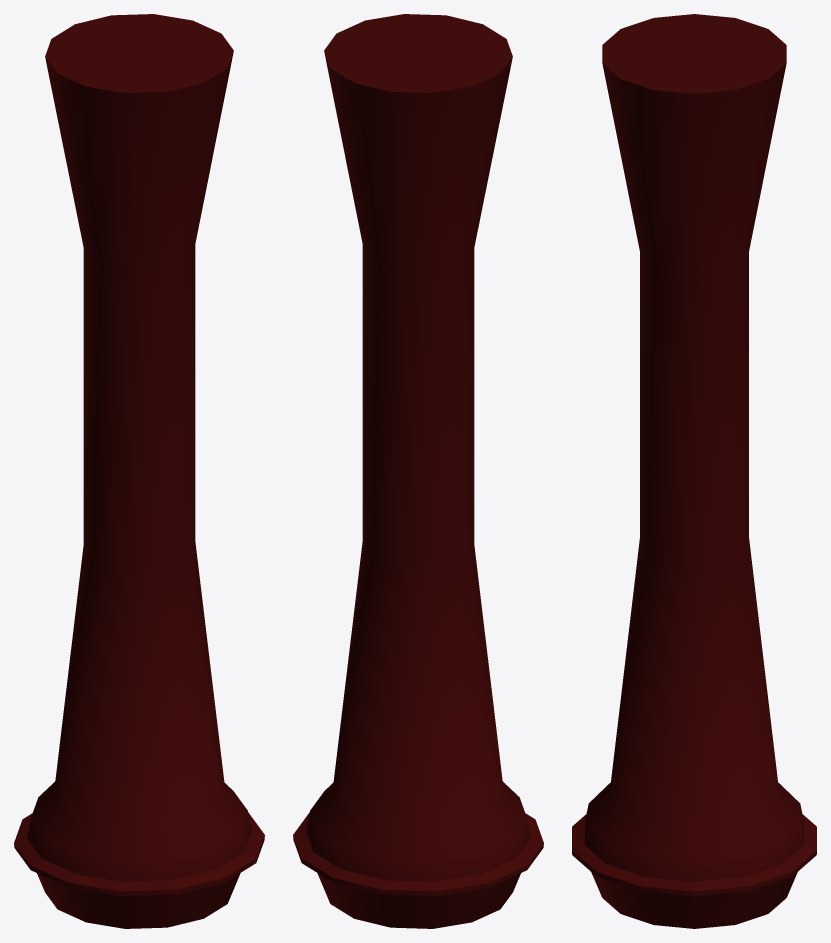
Rendered from body_full.FBX.
3 views of the same model, side by side, from view 1: azimuth 30°, elevation 25°; view 2: azimuth 150°, elevation 25°; view 3: azimuth 270°, elevation 25° (orthographic).
Visible parts, largest first — view 1: pillar_full_body; view 2: pillar_full_body; view 3: pillar_full_body.
Part boxes in pixels (box(x1,y1,x2,y2)): pillar_full_body: box(14, 14, 264, 928); pillar_full_body: box(293, 14, 543, 928); pillar_full_body: box(572, 14, 816, 928).
Size of the model in its own units: 10.62 by 38.95 by 10.36.
